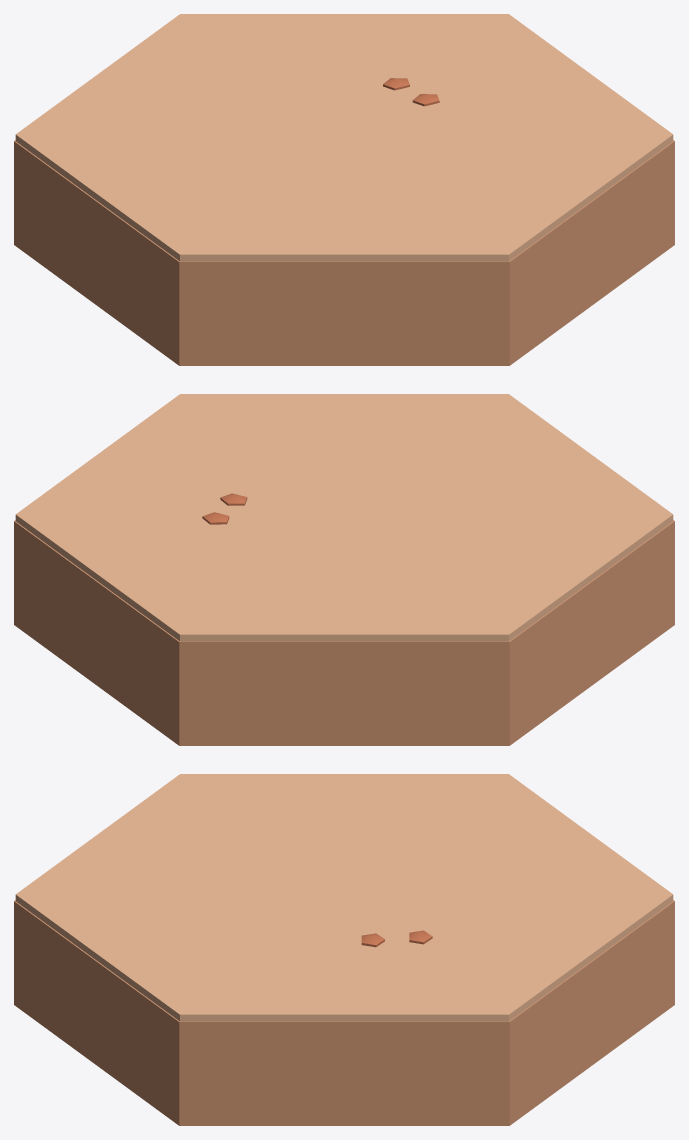
Rendered from sand.glb.
The picture shows the model from 3 angles, top to bottom: view 1: azimuth 30°, elevation 25°; view 2: azimuth 150°, elevation 25°; view 3: azimuth 270°, elevation 25°; orthographic projection.
Visible parts, largest first — view 1: sand; view 2: sand; view 3: sand.
Boxes of the visible parts, x1,y1,x2,y2 form: sand: [14, 14, 674, 365]; sand: [14, 394, 674, 745]; sand: [14, 774, 674, 1125].
Bounding box in the file's own units: 1 × 0.224 × 1.15.
1 material, 1 textured.
